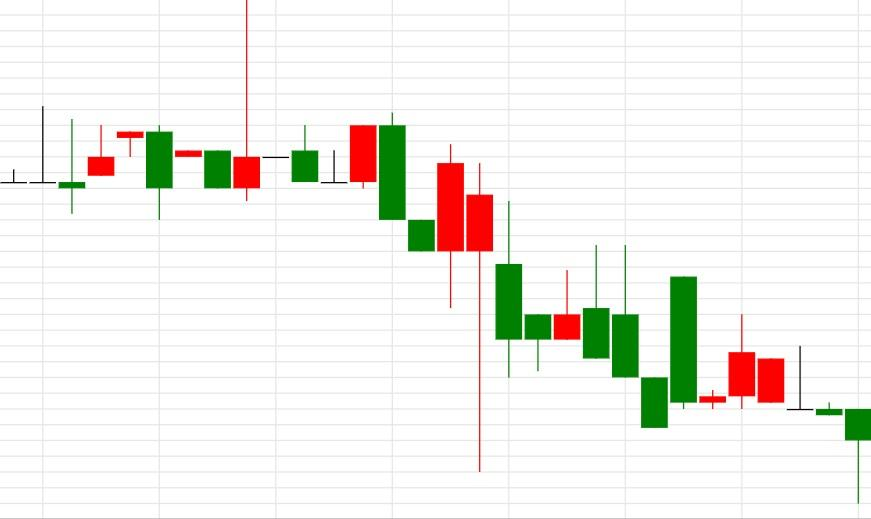bearish_engulfing_fall: (58, 119, 173, 220)
bullish_engulfing_rise: (350, 110, 465, 308)
